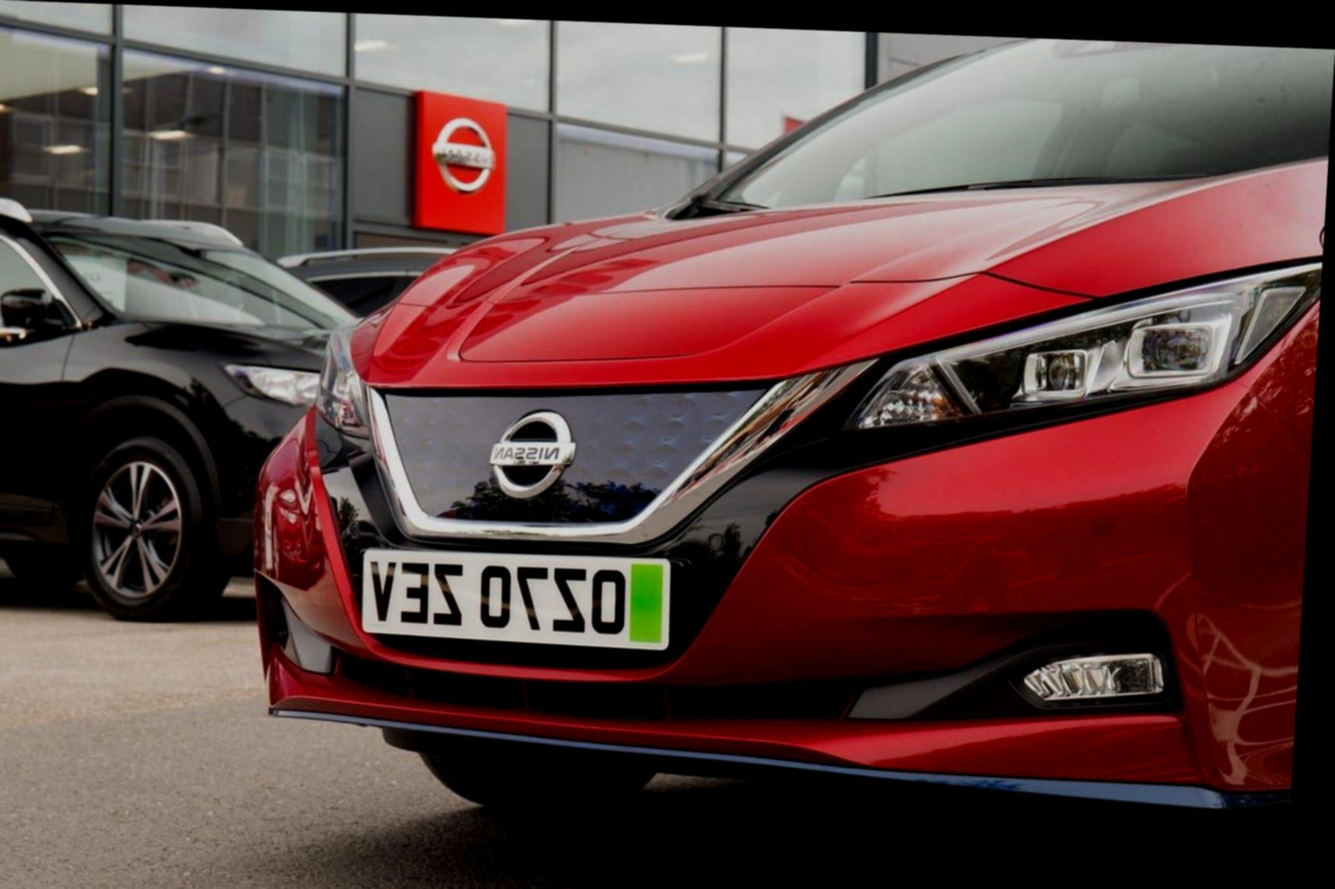License_Plate: (349, 539, 682, 665)
